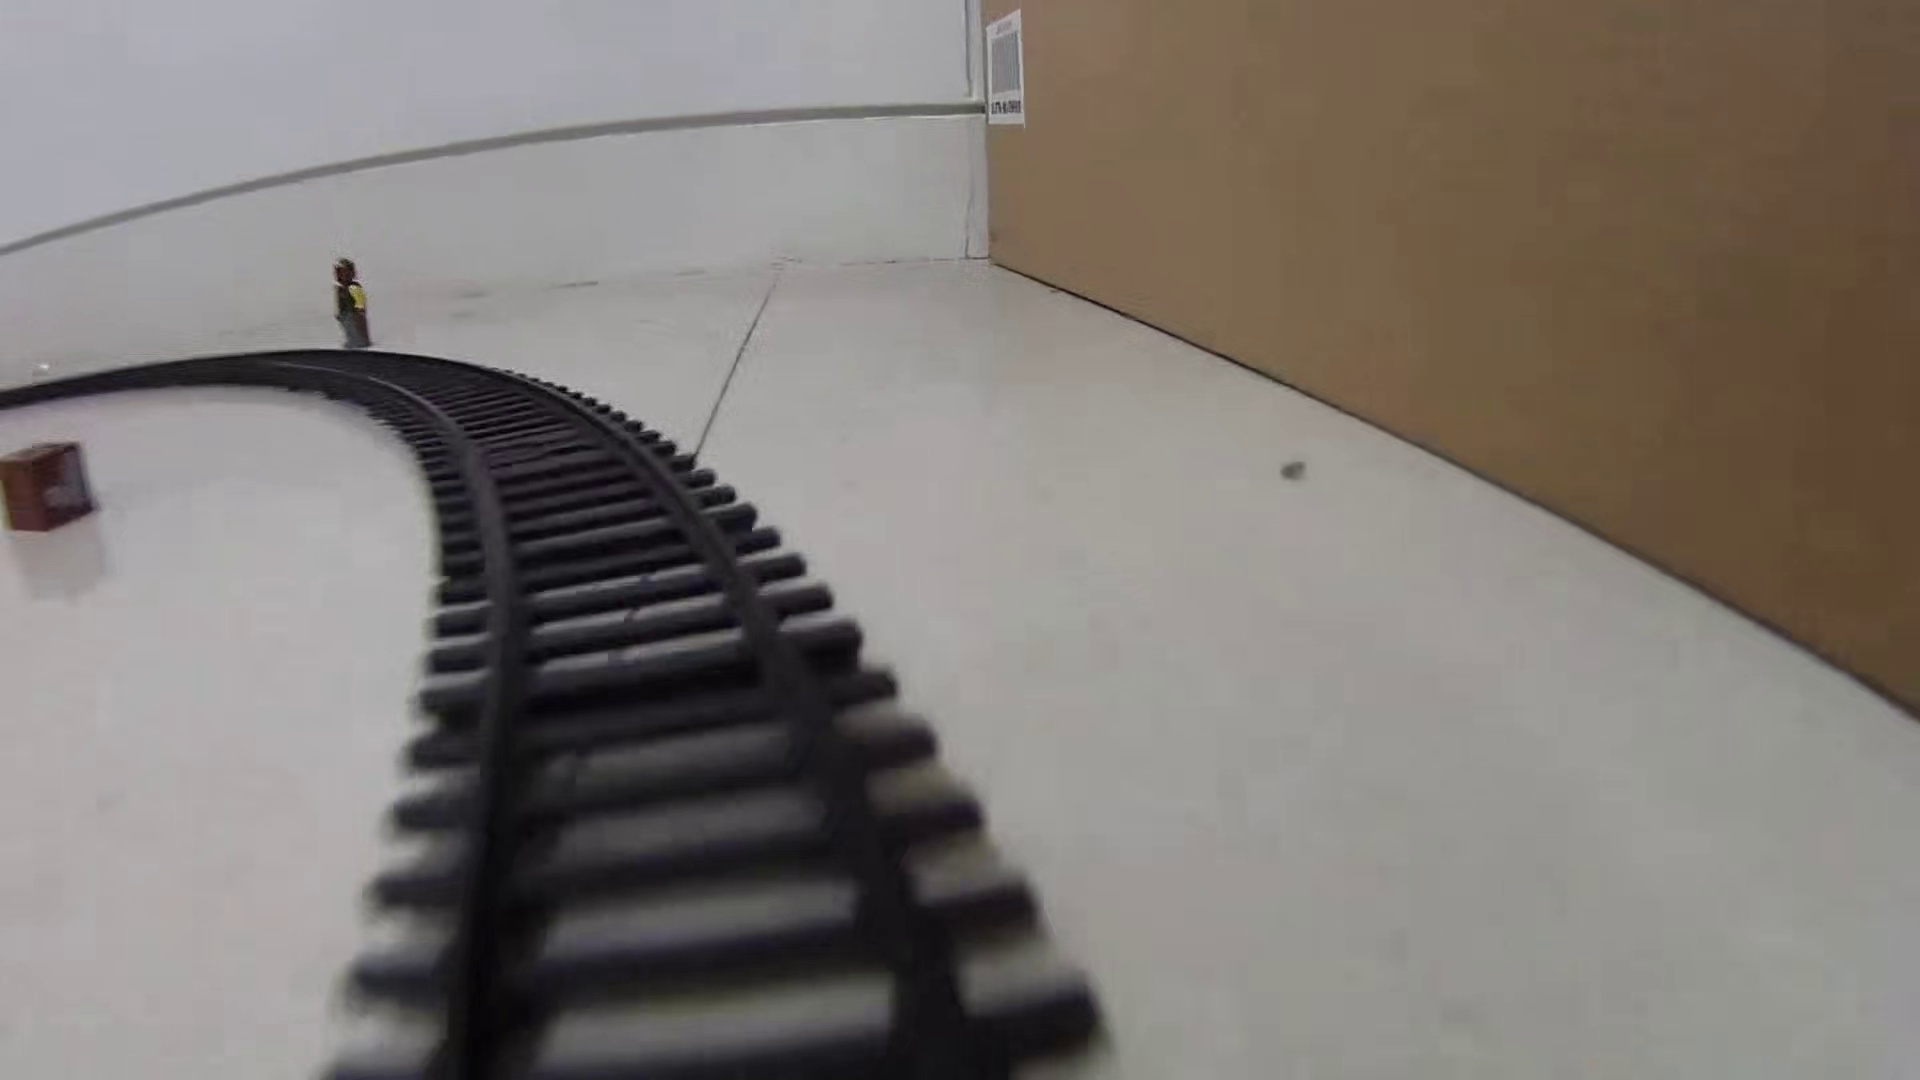box: (1, 437, 100, 536)
people: (333, 257, 373, 353)
